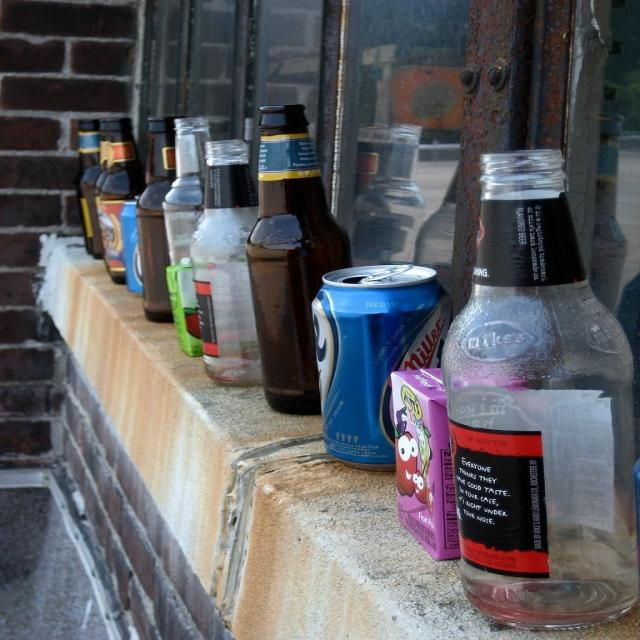Glass: (441, 197, 640, 628), (25, 125, 299, 381)
can: (308, 238, 416, 486)
